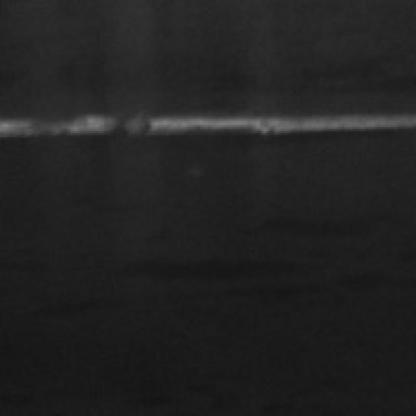scratches: (125, 96, 416, 139), (4, 102, 127, 144)
